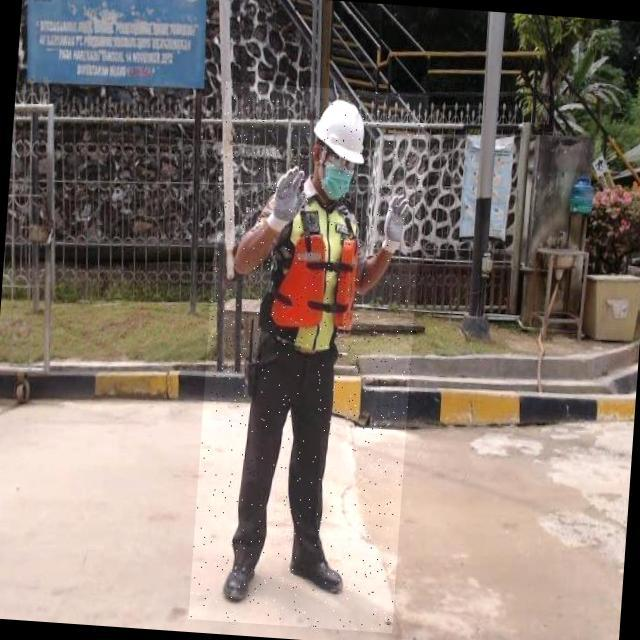Gloves: (268, 160, 311, 238), (378, 184, 417, 258)
Helmet: (308, 94, 372, 176)
Person: (173, 68, 424, 628)
Safety Boot: (284, 547, 348, 602), (220, 552, 261, 607)
Safety Vest: (257, 194, 368, 361)
